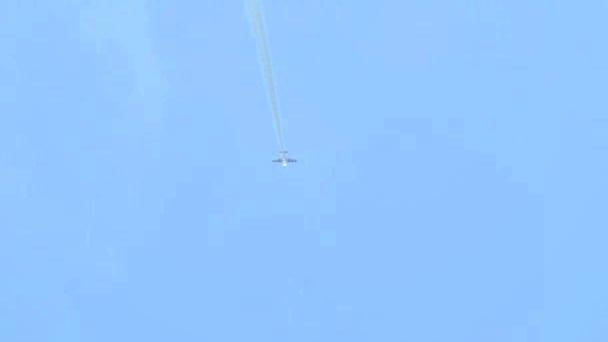Plane: (255, 126, 312, 181)
